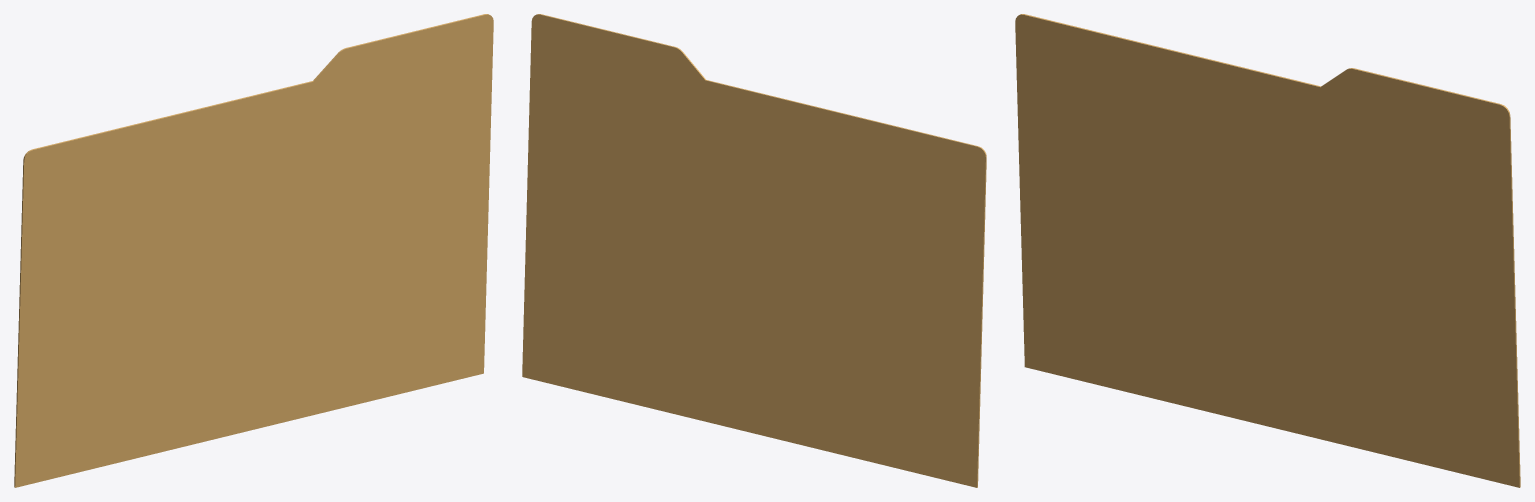
File: folderFront.glb
3 views of the same model, side by side, from view 1: azimuth 30°, elevation 25°; view 2: azimuth 150°, elevation 25°; view 3: azimuth 330°, elevation 25° (orthographic). The views are drawn at different scales.
Parts seen in each view (by area): view 1: folderFront; view 2: folderFront; view 3: folderFront.
Part boxes in pixels (x1,y1,x2,y2): folderFront: (14,14,493,487); folderFront: (522,14,986,487); folderFront: (1015,14,1520,487).
Size of the model in its own units: 5.95 by 4.47 by 0.2408.
